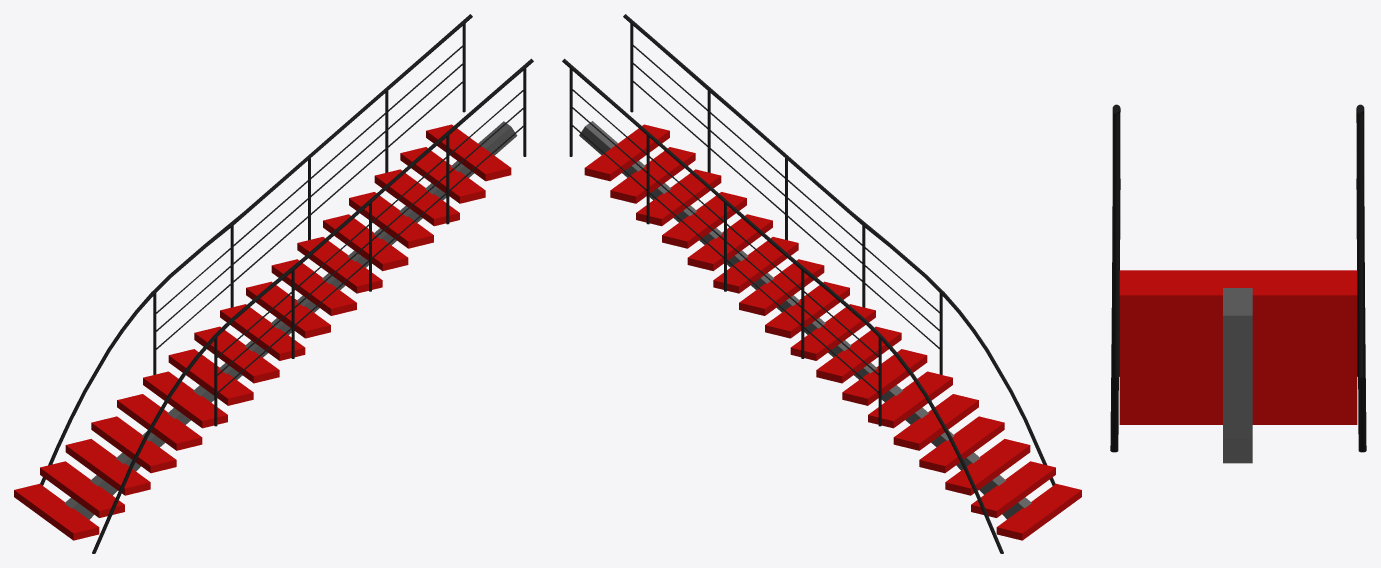
The model's file is modern_staircase.obj.
3 views of the same model, side by side, from view 1: azimuth 30°, elevation 25°; view 2: azimuth 150°, elevation 25°; view 3: azimuth 270°, elevation 25° (orthographic). The views are drawn at different scales.
Visible parts, largest first — view 1: Modern_Staircase.002; view 2: Modern_Staircase.002; view 3: Modern_Staircase.002.
Boxes of the visible parts, x1=… form: Modern_Staircase.002: x1=14, y1=14, x2=533, y2=553; Modern_Staircase.002: x1=562, y1=14, x2=1081, y2=553; Modern_Staircase.002: x1=1110, y1=104, x2=1366, y2=463.
Size of the model in its own units: 5.47 by 4.31 by 1.29.
